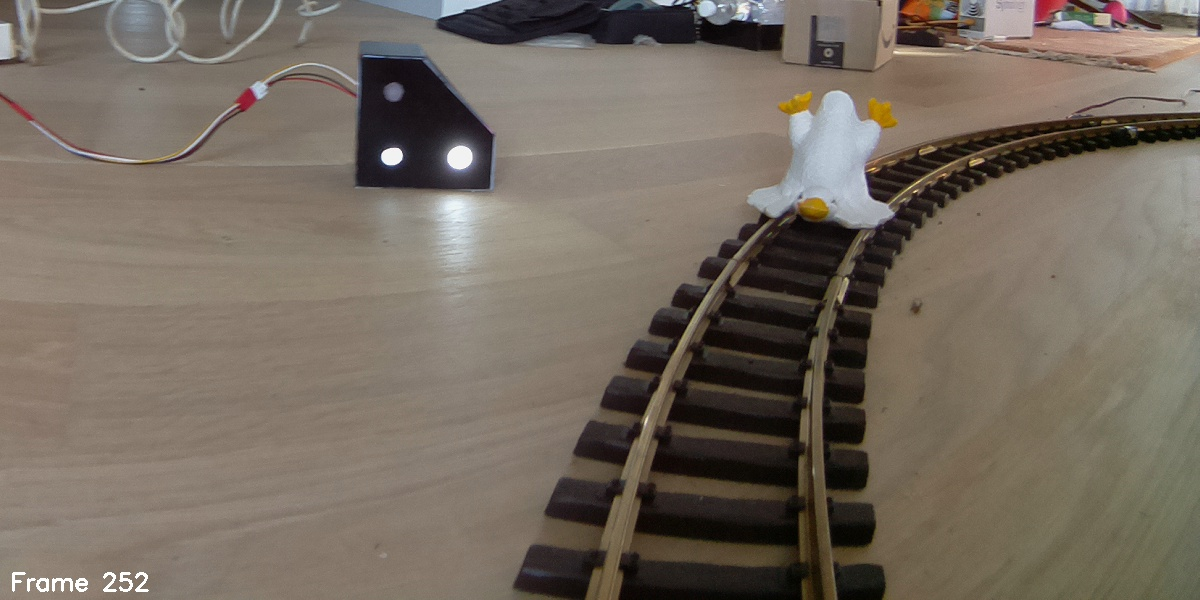Ente: (749, 89, 900, 234)
Halt: (358, 37, 493, 189)
